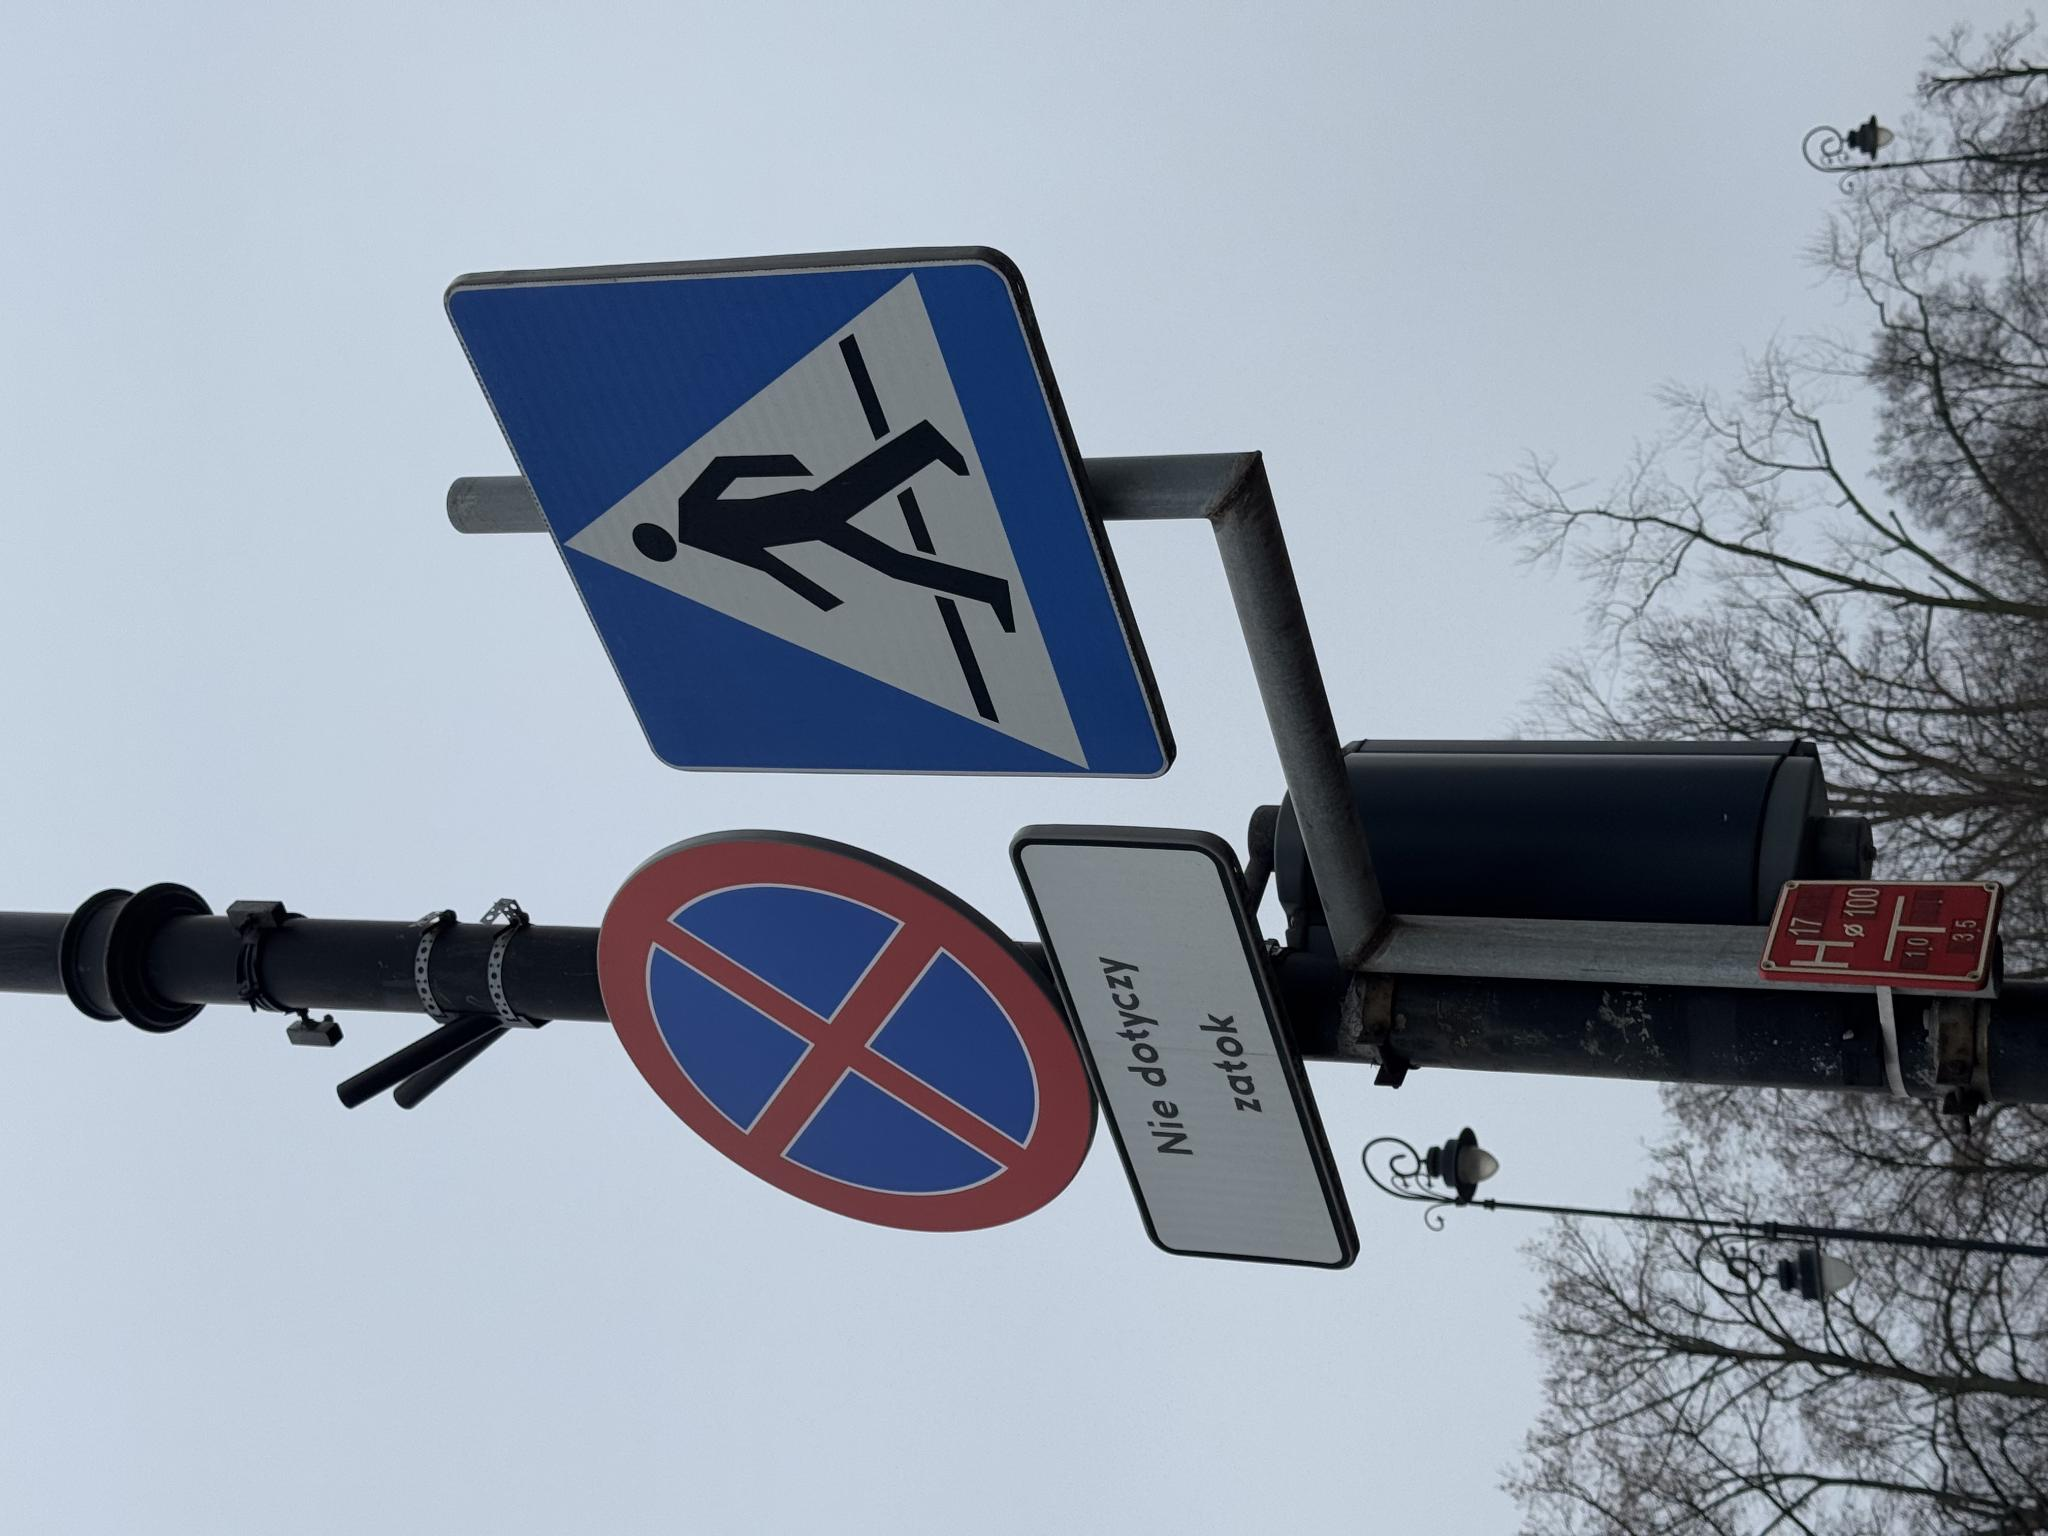information: (755, 437, 1300, 1183)
other: (269, 1004, 713, 1363)
prohibitory: (300, 592, 711, 1102)
